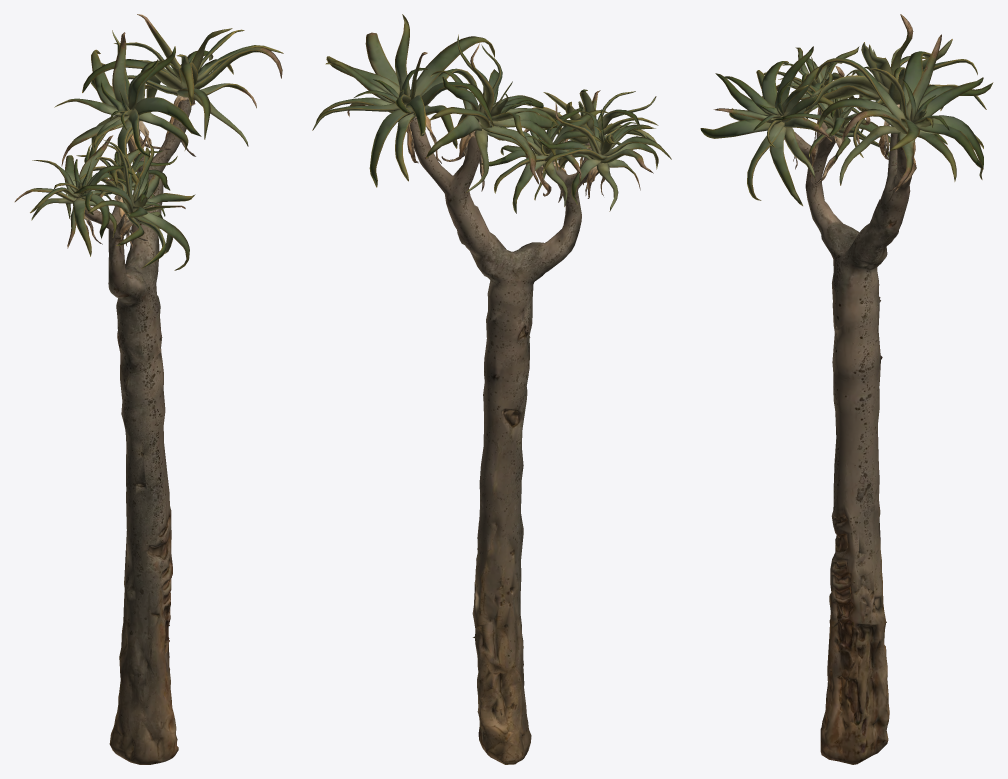
Rendered from quiver_tree_01.glb.
3 views of the same model, side by side, from view 1: azimuth 30°, elevation 25°; view 2: azimuth 150°, elevation 25°; view 3: azimuth 270°, elevation 25° (orthographic). The views are drawn at different scales.
Visible parts, largest first — view 1: quiver_tree_01; view 2: quiver_tree_01; view 3: quiver_tree_01.
Part boxes in pixels (x1,y1,x2,y2): quiver_tree_01: (14,14,283,764); quiver_tree_01: (312,14,671,764); quiver_tree_01: (700,14,993,764).
Size of the model in its own units: 1.18 by 2.72 by 0.9676.
2 materials, 2 textured.
